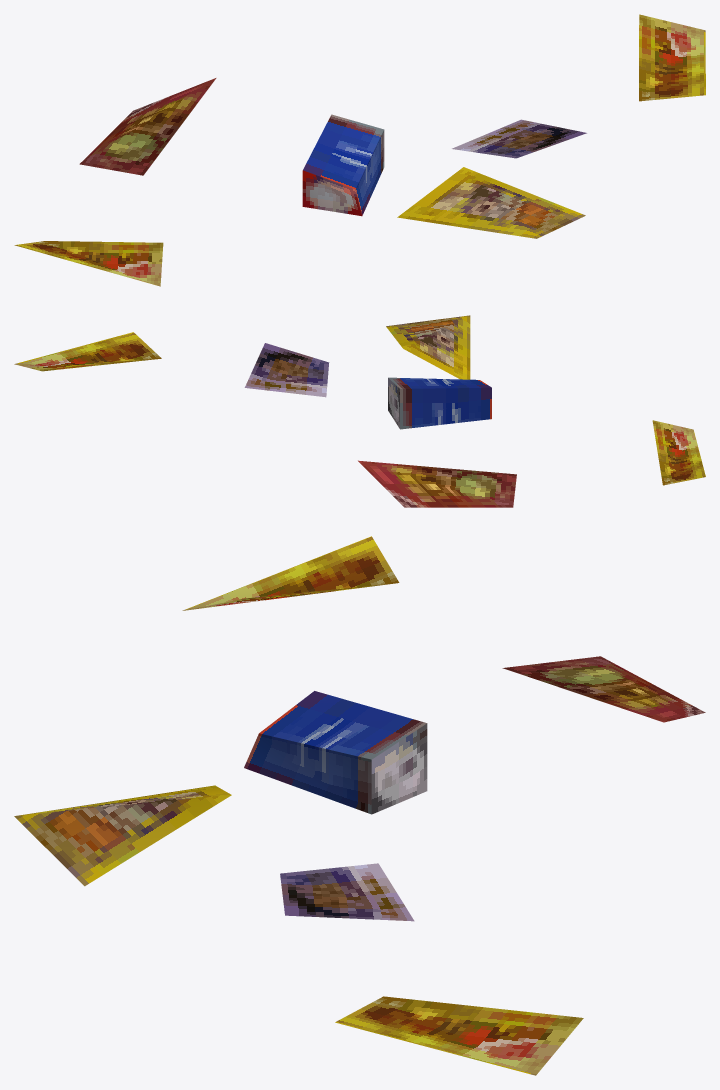
The model's file is Rubish2.glb.
The picture shows the model from 3 angles, top to bottom: view 1: azimuth 30°, elevation 25°; view 2: azimuth 150°, elevation 25°; view 3: azimuth 270°, elevation 25°; orthographic projection. The views are drawn at different scales.
Visible parts, largest first — view 1: RUBISH2; view 2: RUBISH2; view 3: RUBISH2.
Boxes of the visible parts, x1,y1,x2,y2 form: RUBISH2: [14, 14, 705, 286]; RUBISH2: [14, 315, 705, 507]; RUBISH2: [14, 536, 705, 1075].
Size of the model in its own units: 1.48 by 0.089 by 0.822.
2 materials, 2 textured.
